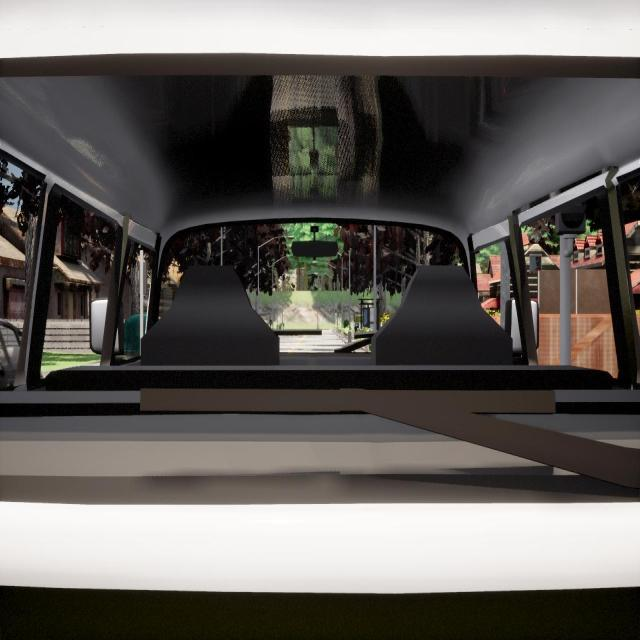Vehicle: (0, 0, 640, 640)
traffic_light: (558, 206, 585, 235), (142, 265, 148, 295), (335, 309, 337, 317)
